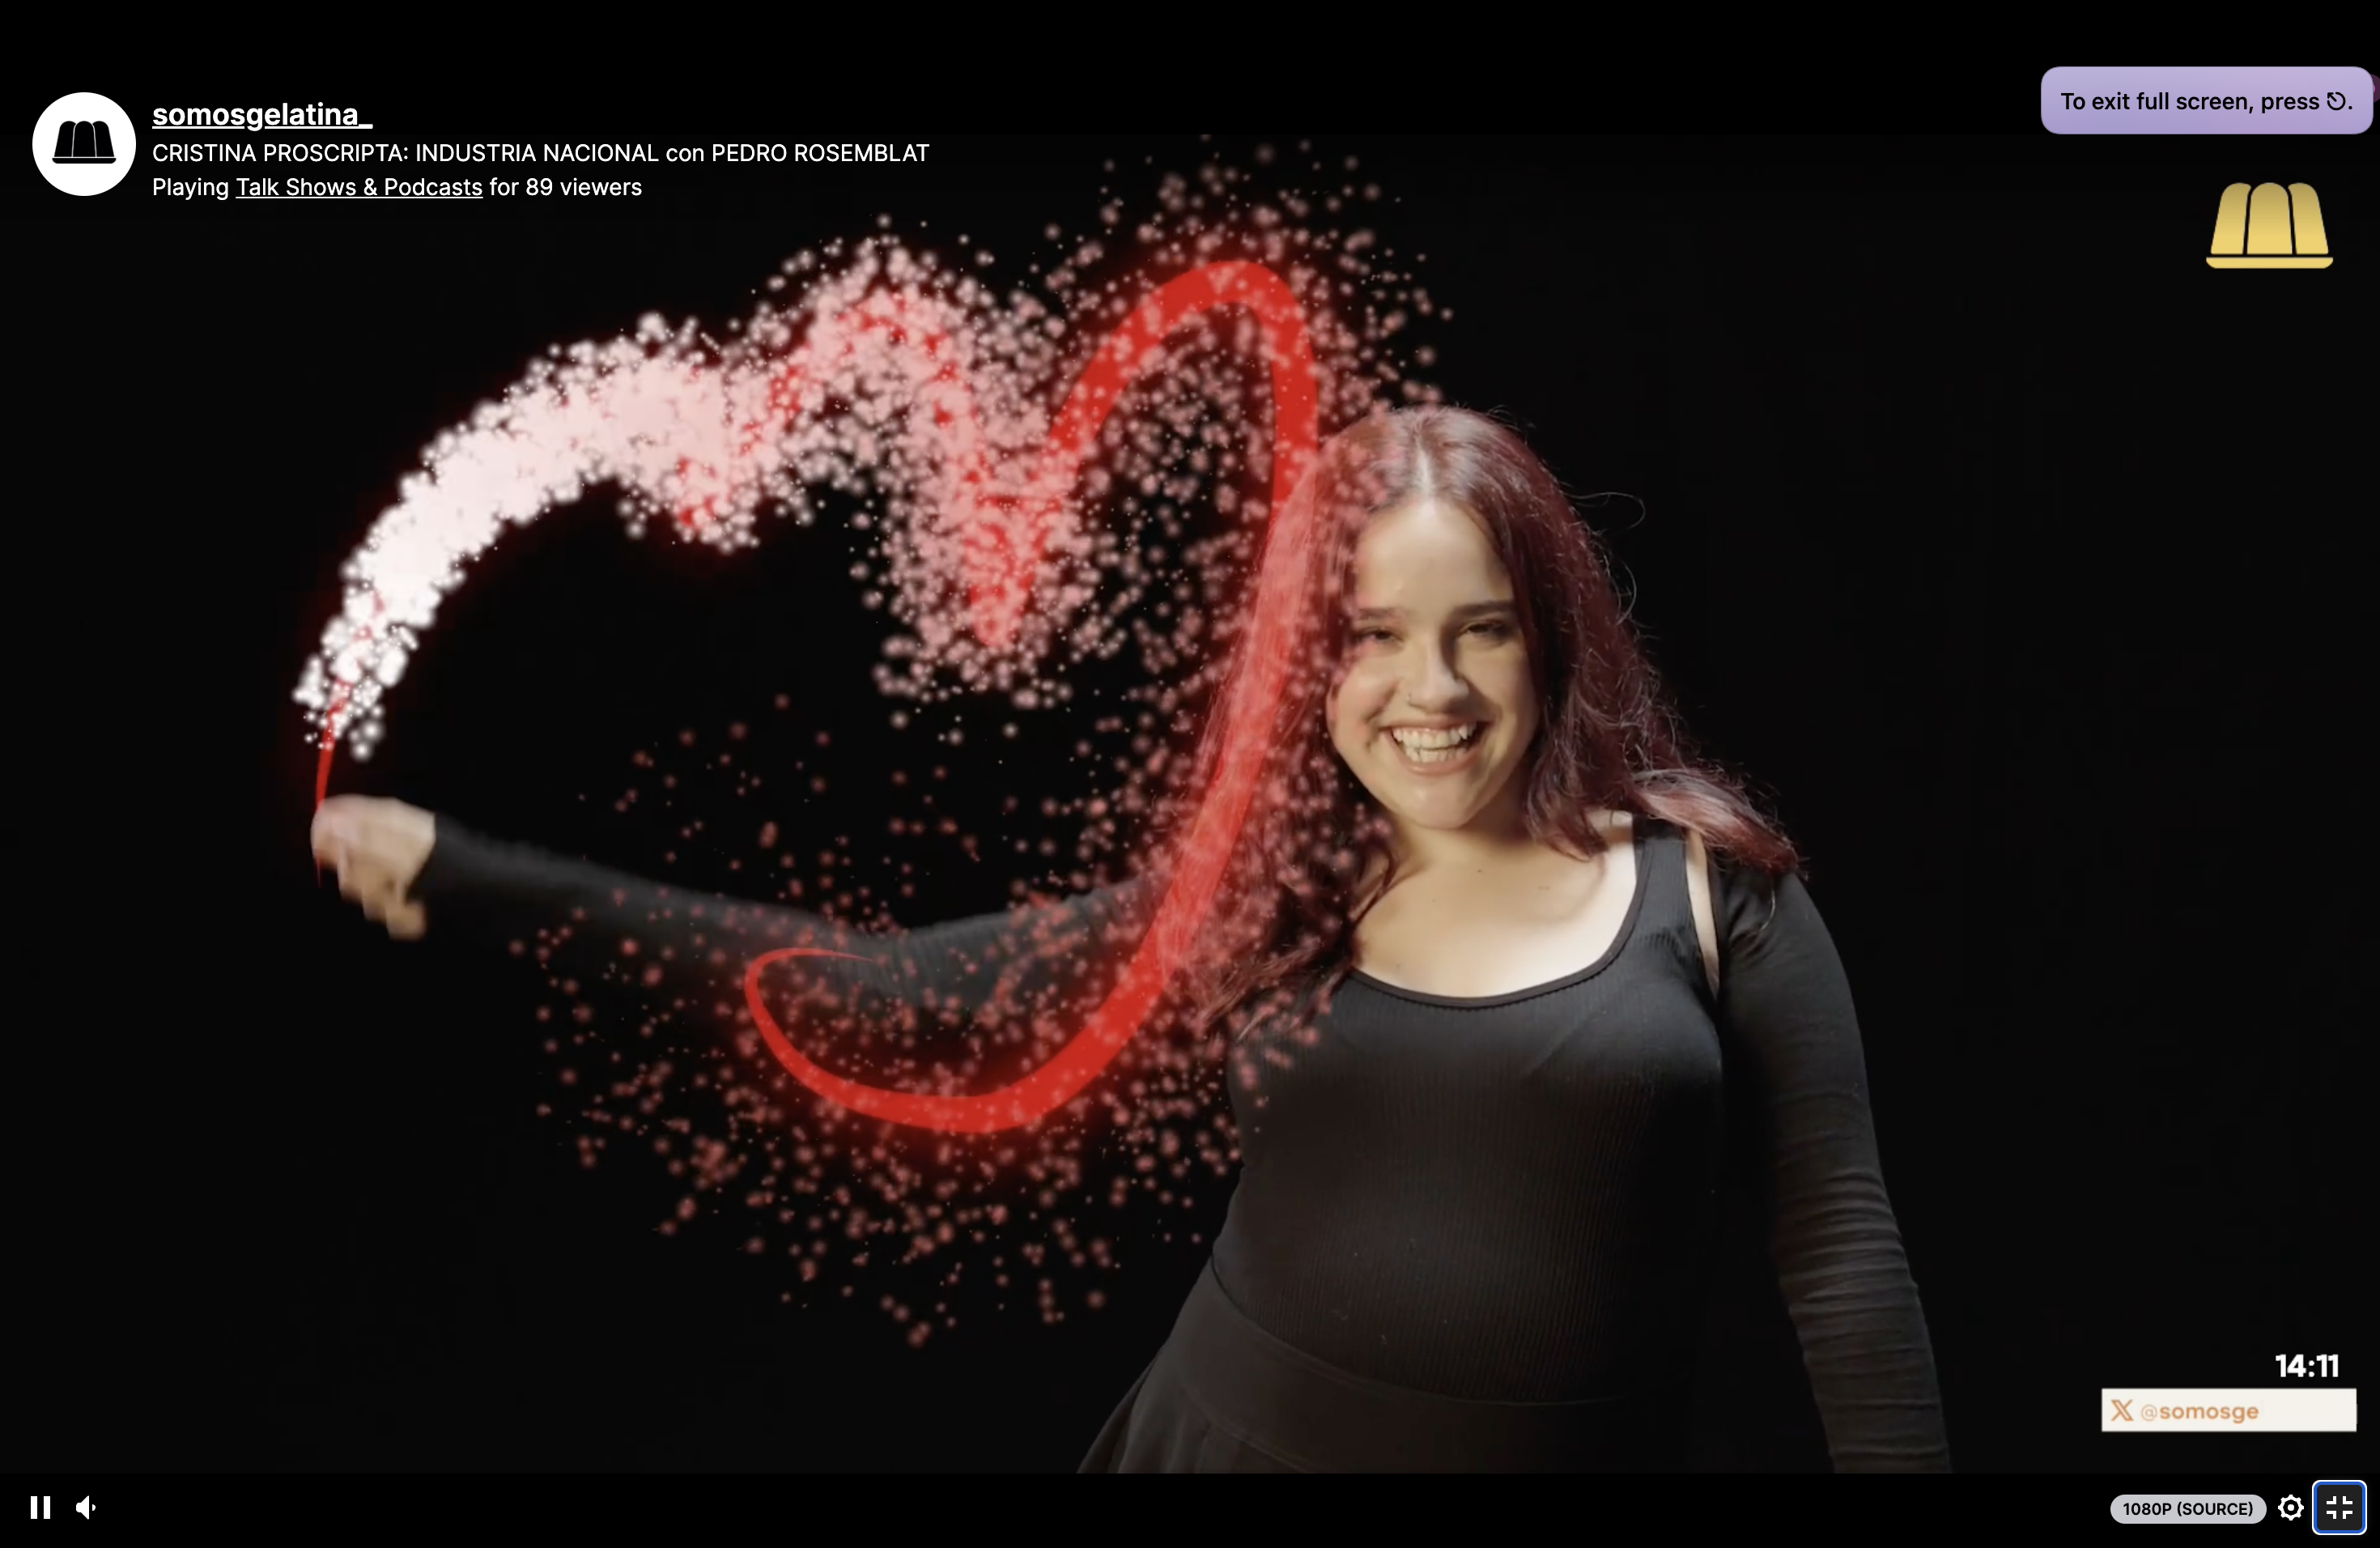person: (307, 397, 1953, 1478)
